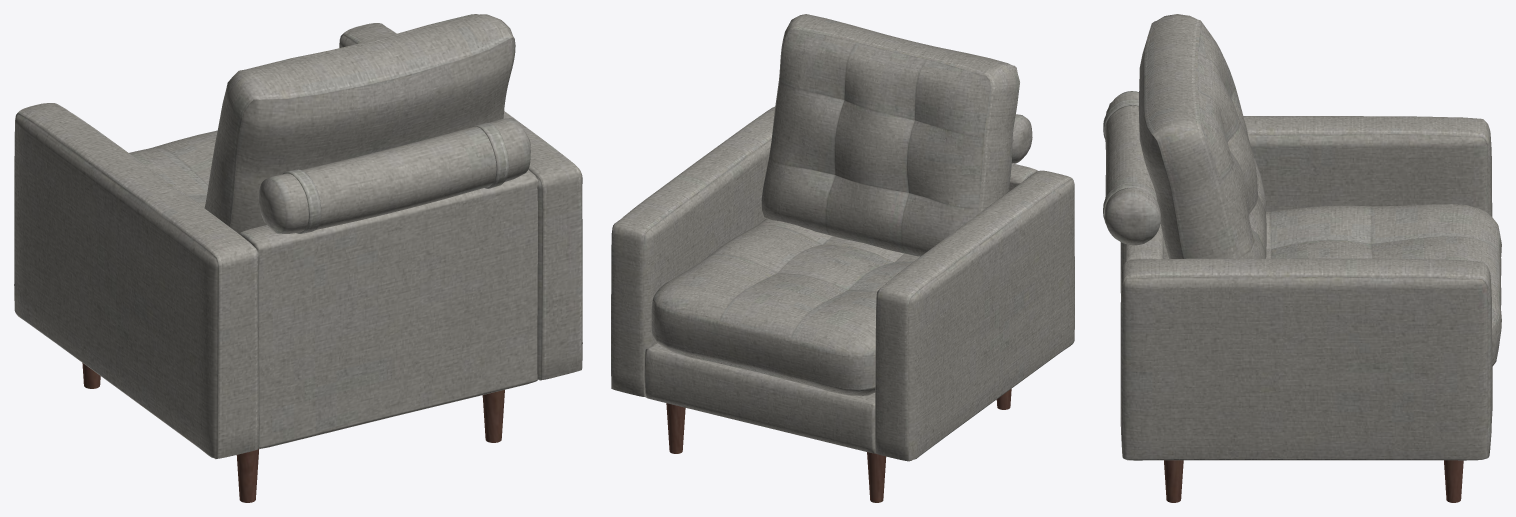
Rendered from abo_B071W5VJFK.glb.
3 renders of one model, left to right at view 1: azimuth 30°, elevation 25°; view 2: azimuth 150°, elevation 25°; view 3: azimuth 270°, elevation 25°, orthographic. The views are drawn at different scales.
Visible parts, largest first — view 1: RootNode; view 2: RootNode; view 3: RootNode.
Boxes of the visible parts, x1,y1,x2,y2 form: RootNode: (14,14,582,502); RootNode: (611,14,1074,502); RootNode: (1103,14,1501,502).
Size of the model in its own units: 0.8207 by 0.8804 by 0.8427.
1 material, 1 textured.
